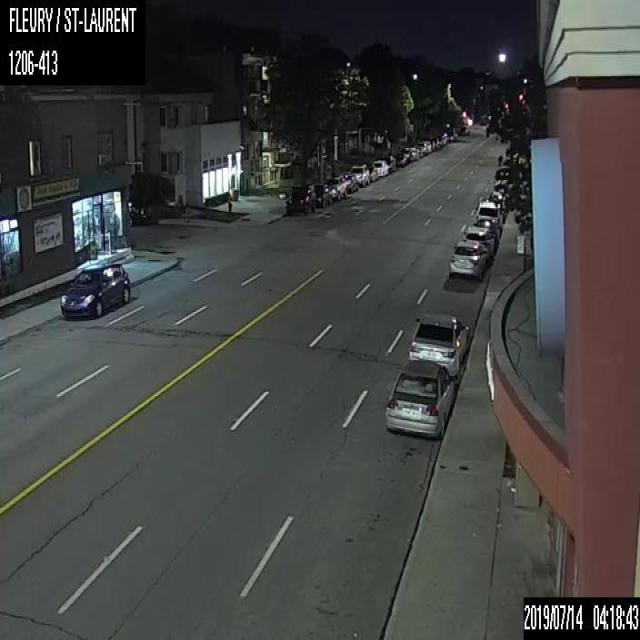vehicle: (384, 360, 456, 439), (57, 260, 131, 317), (406, 312, 469, 376), (448, 240, 487, 283), (464, 224, 494, 255), (284, 183, 314, 213), (474, 201, 502, 230), (309, 181, 331, 206), (126, 200, 146, 227), (324, 176, 346, 198), (349, 163, 368, 185), (372, 158, 388, 175), (342, 172, 356, 191), (385, 155, 395, 171), (394, 153, 407, 165), (368, 165, 377, 181), (402, 146, 411, 161), (411, 146, 416, 160)
